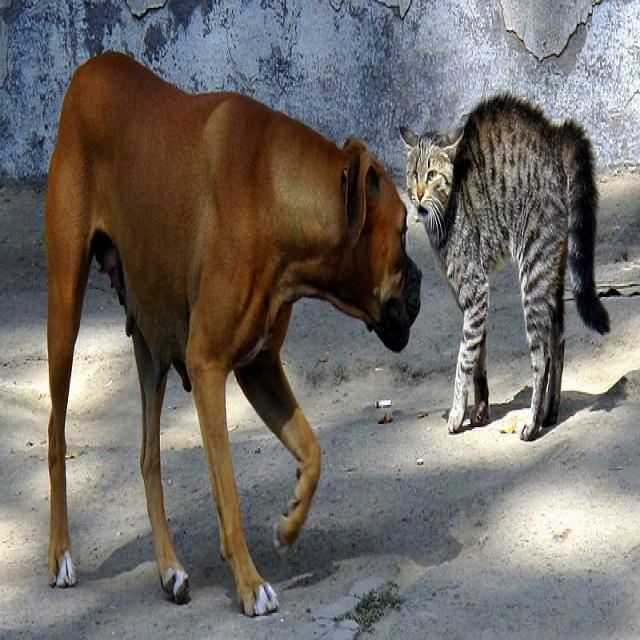cat: (401, 91, 610, 446)
dog: (28, 33, 423, 617)
